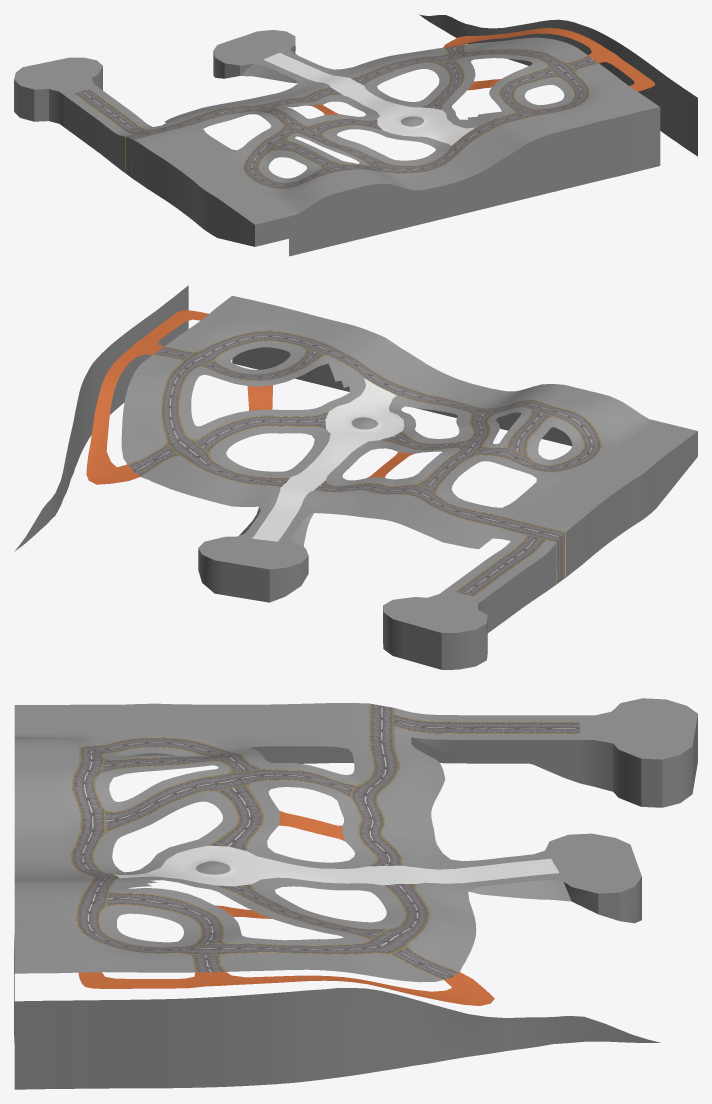
File: map.fbx
3 views of the same model, one above another, from view 1: azimuth 30°, elevation 25°; view 2: azimuth 150°, elevation 25°; view 3: azimuth 270°, elevation 25° (orthographic). The views are drawn at different scales.
Visible parts, largest first — view 1: map; view 2: map; view 3: map.
Boxes of the visible parts, bbox=[...] form: map: bbox=[14, 14, 697, 256]; map: bbox=[14, 285, 697, 669]; map: bbox=[14, 698, 697, 1089].
Bounding box in the file's own units: 24586 × 3051 × 20711.
